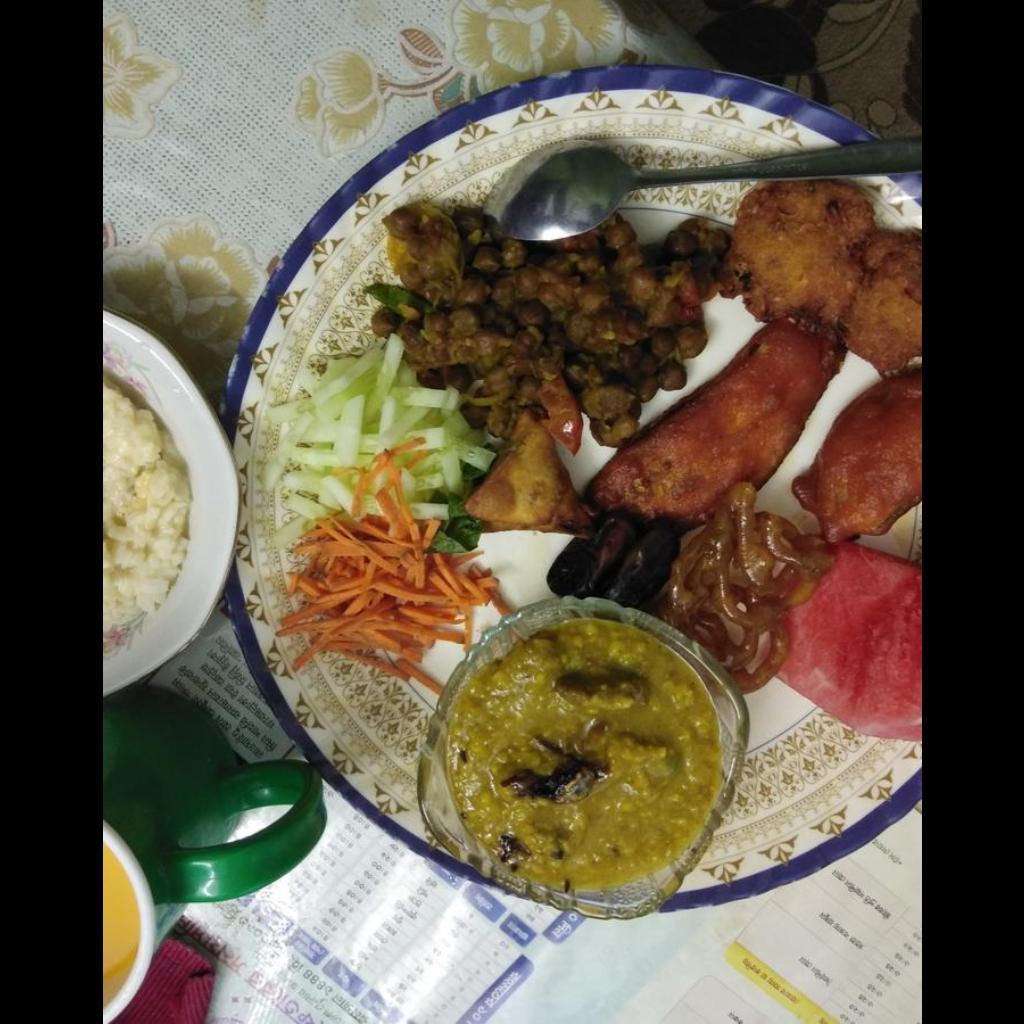beguni: (589, 321, 830, 521), (793, 368, 920, 542)
carrot: (277, 449, 495, 687)
chola: (366, 201, 728, 446)
cucumber: (264, 336, 491, 521)
daal: (442, 622, 720, 884)
jilapi: (660, 482, 831, 689)
juice: (102, 821, 155, 1023)
piyaju: (720, 181, 920, 373)
rice: (102, 373, 190, 654)
watermelon: (777, 542, 920, 740)
